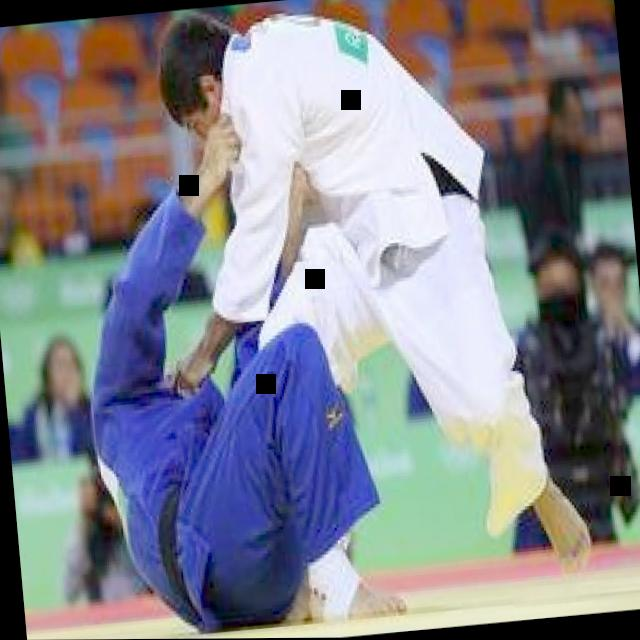Fall-Detected: (34, 100, 439, 630)
